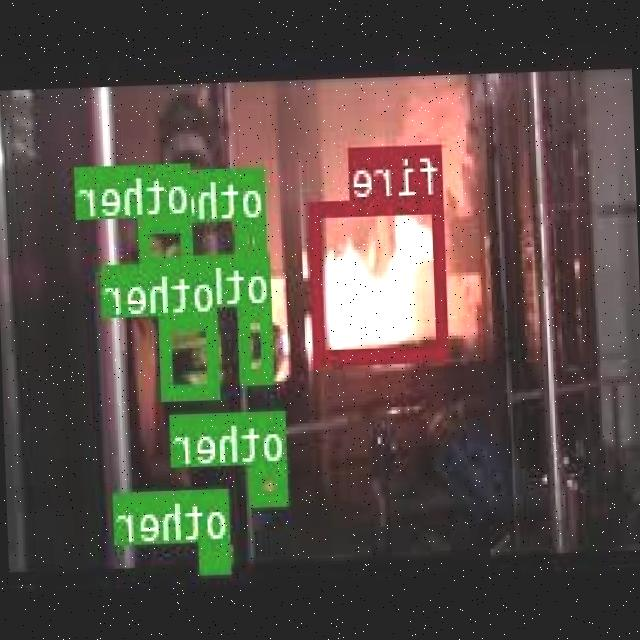fire: (312, 197, 449, 360)
